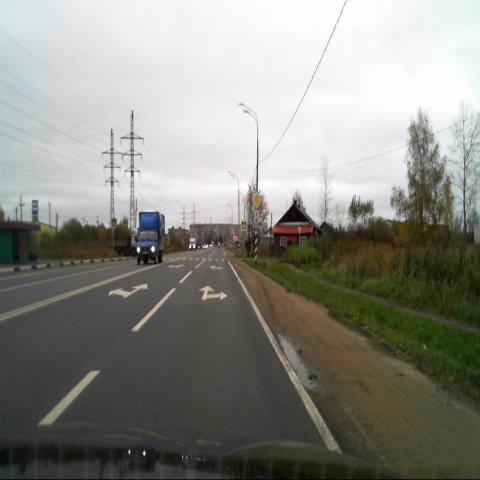2_1: (252, 191, 261, 208)
